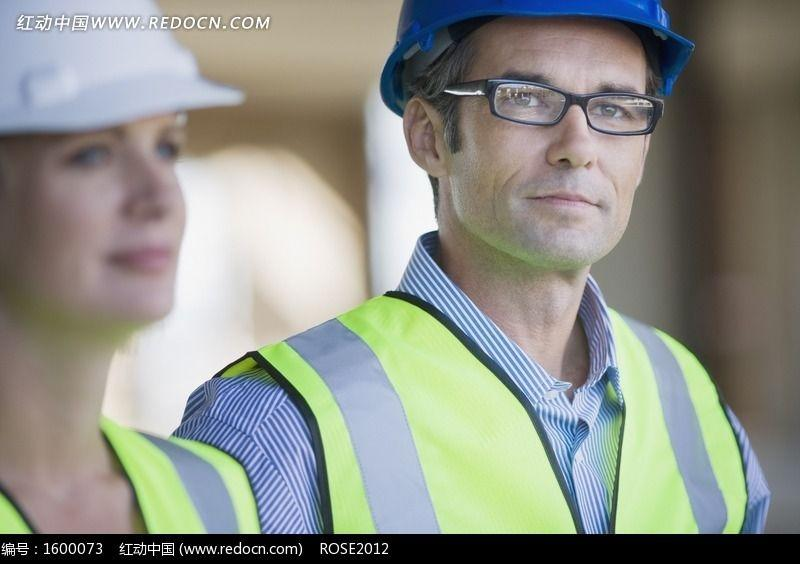helmet: (377, 0, 696, 112), (0, 0, 248, 144)
wear: (197, 326, 752, 533), (0, 442, 253, 533)
